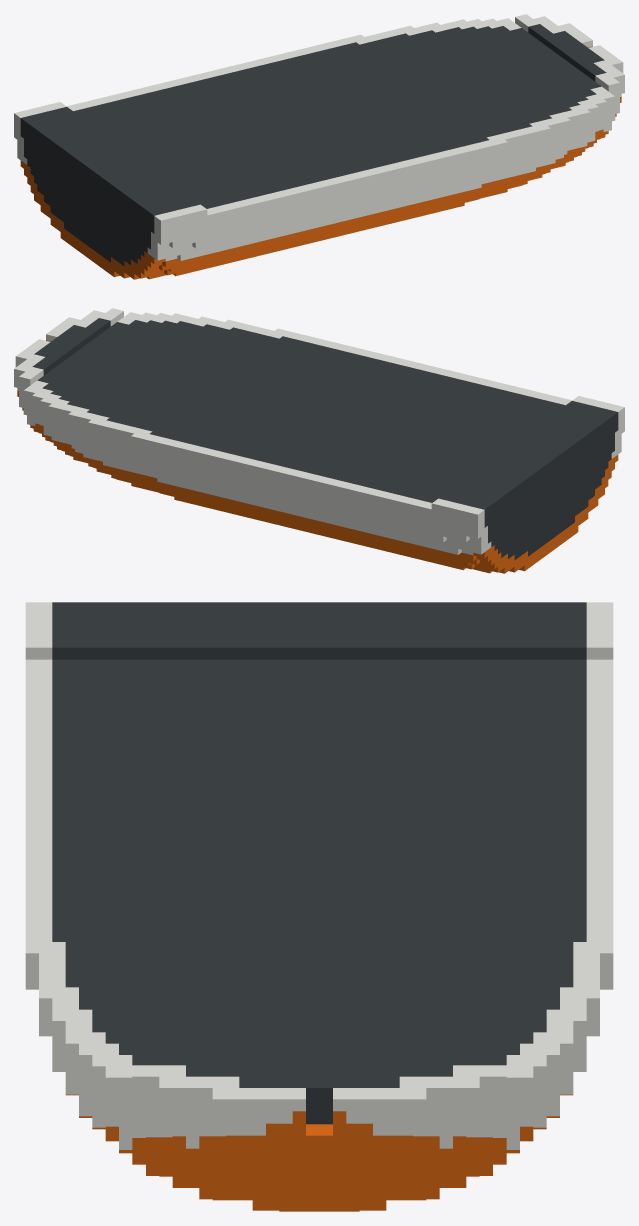
The model's file is news_helicopter_belly.glb.
3 renders of one model, top to bottom at view 1: azimuth 30°, elevation 25°; view 2: azimuth 150°, elevation 25°; view 3: azimuth 270°, elevation 25°, orthographic. The views are drawn at different scales.
Visible parts, largest first — view 1: body:compound; view 2: body:compound; view 3: body:compound.
Boxes of the visible parts, box(x1,y1,x2,y2) form: body:compound: box(14, 14, 624, 279); body:compound: box(14, 308, 624, 573); body:compound: box(25, 602, 613, 1211).
Size of the model in its own units: 2.75 by 0.5 by 1.38.
